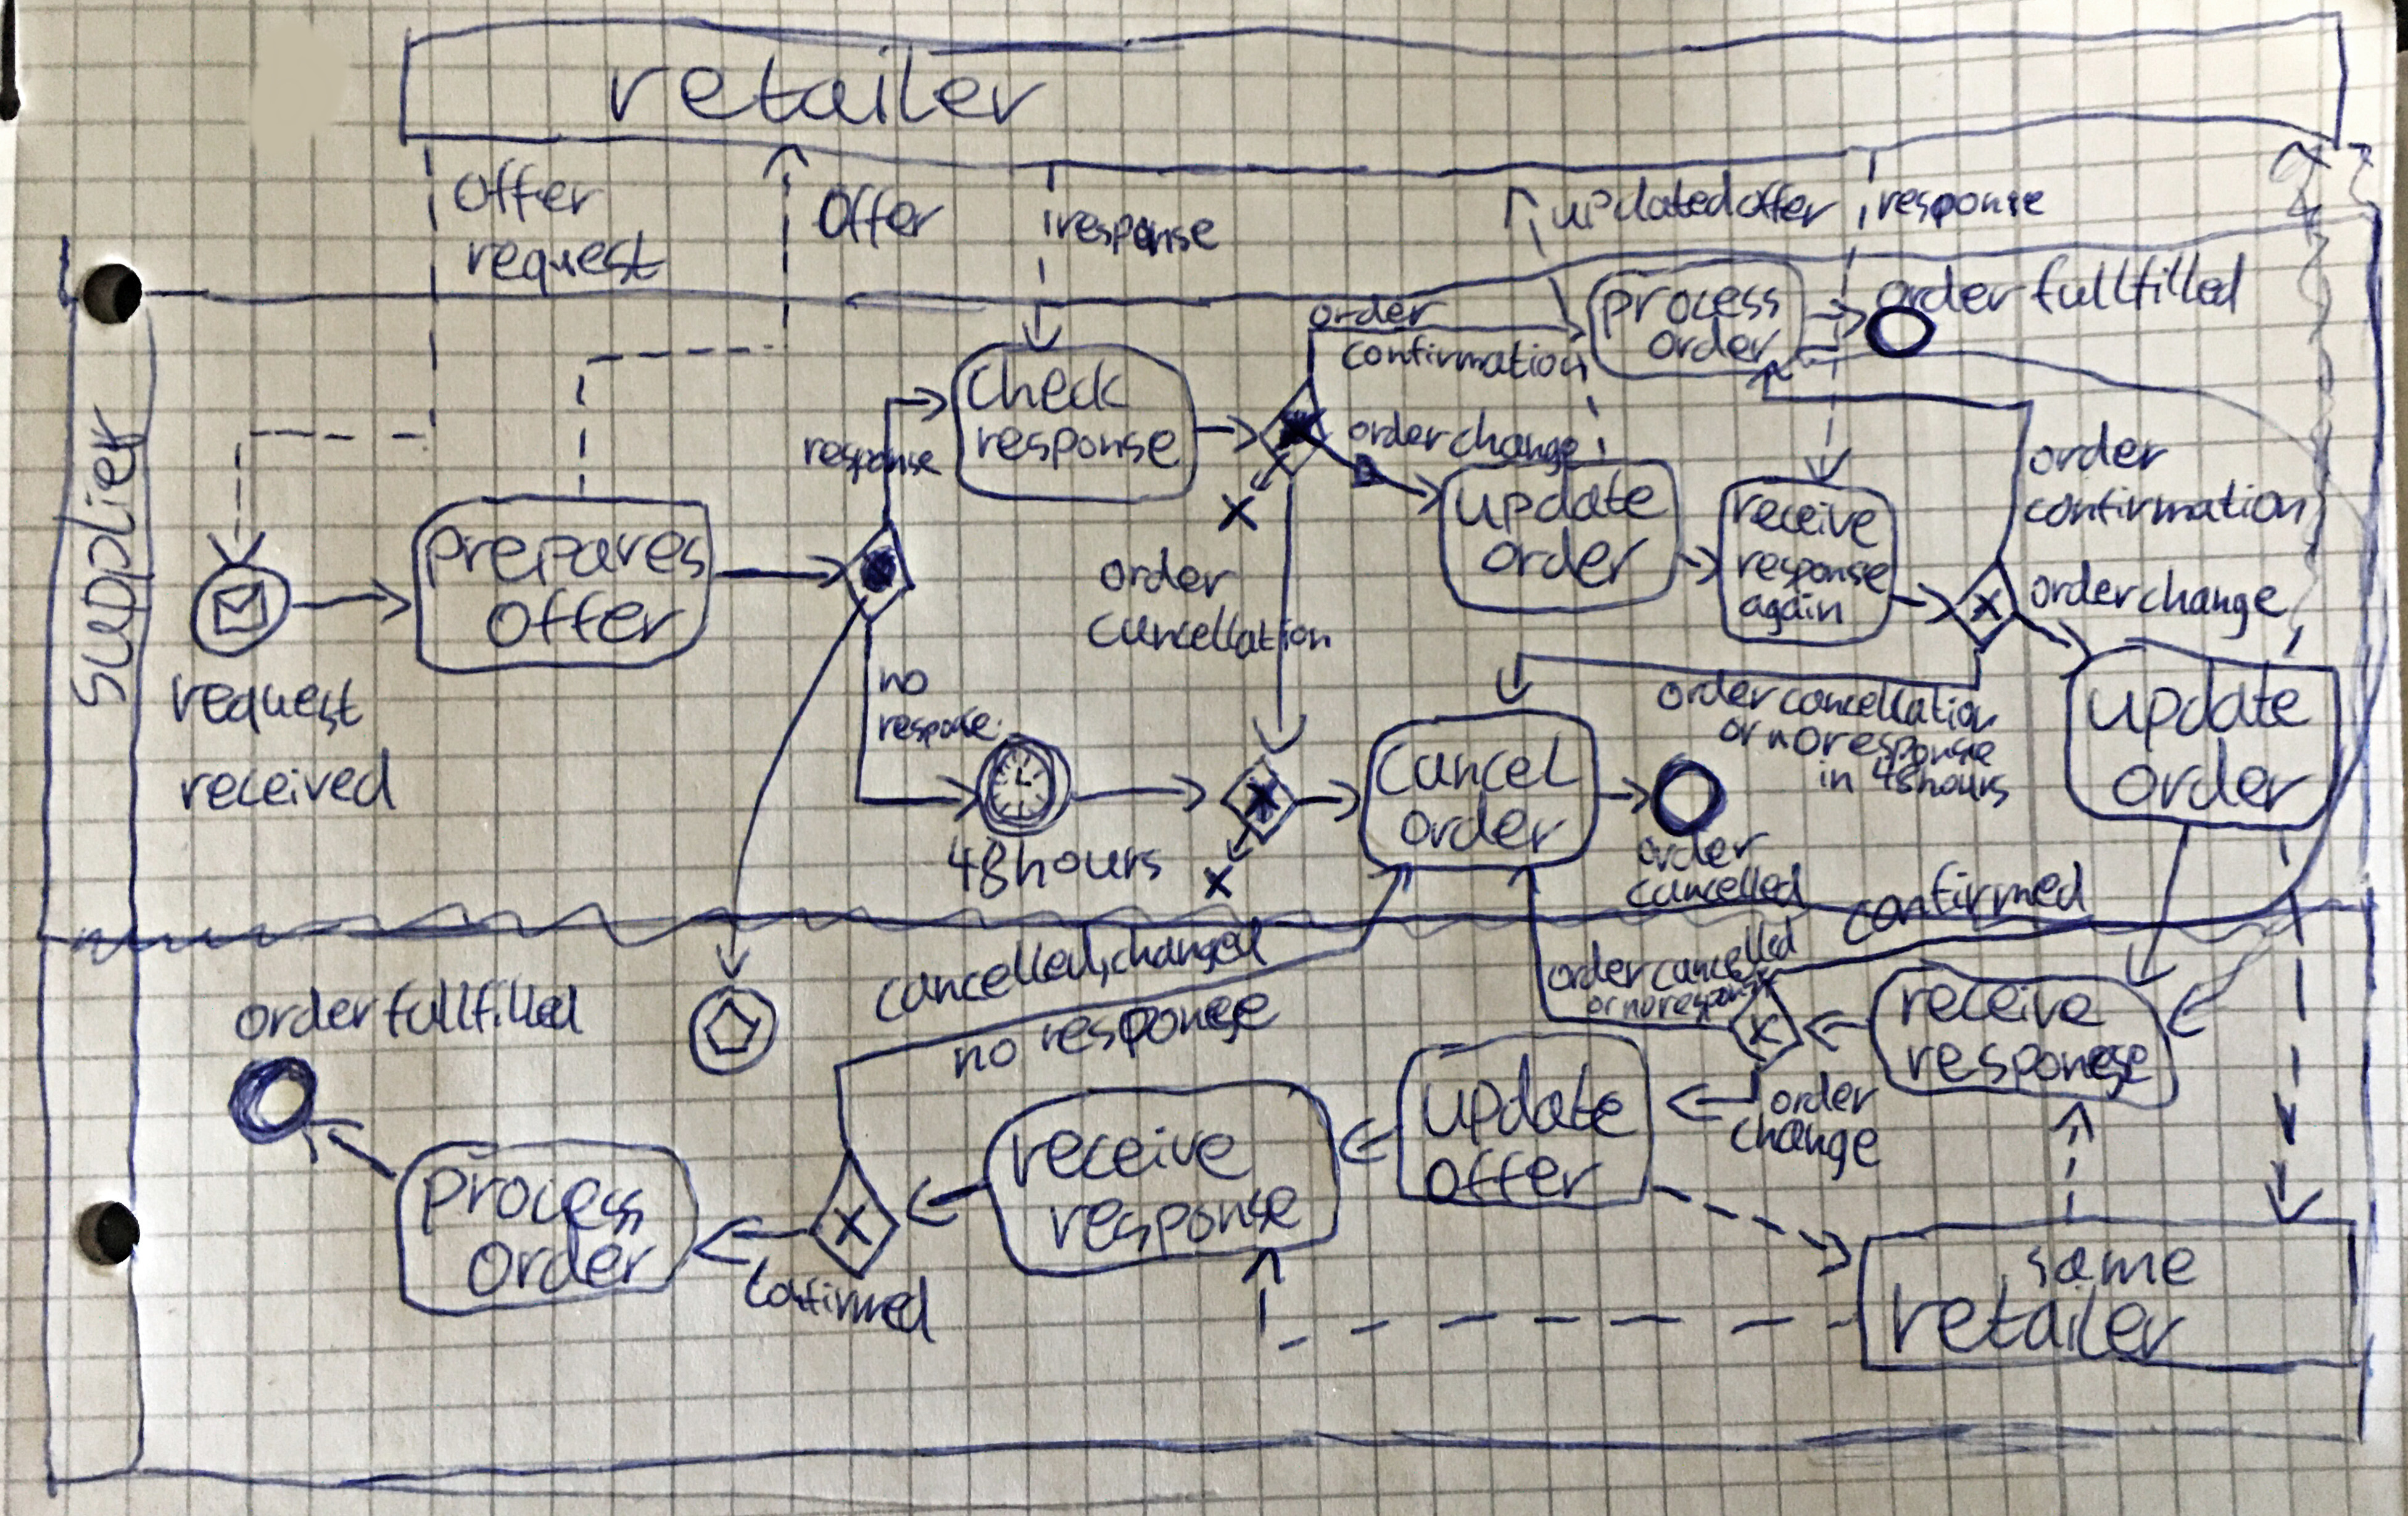48: (938, 824, 1016, 905), (1875, 756, 1916, 793)
Check: (960, 349, 1126, 416)
Confirmed: (733, 1256, 946, 1343)
Offer: (810, 176, 953, 250)
Order: (1477, 531, 1641, 589), (1100, 550, 1238, 603), (1648, 318, 1778, 370), (1310, 292, 1444, 334)
Prepares: (426, 520, 707, 585)
again: (1739, 589, 1851, 643)
cancel: (1376, 741, 1582, 789)
cancellation: (1771, 660, 2015, 734), (1090, 611, 1329, 653)
cancelled: (882, 917, 1100, 1020), (1650, 917, 1804, 992), (1617, 863, 1809, 912)
change: (2141, 566, 2293, 641), (1725, 1111, 1902, 1175), (1448, 410, 1577, 470)
changed: (1121, 906, 1273, 975)
confirmation: (2020, 477, 2312, 531), (1338, 334, 1601, 389)
confirmed: (1840, 854, 2083, 945)
fulfilled: (367, 964, 594, 1055), (2026, 250, 2254, 318)
hours: (1011, 830, 1175, 891), (1917, 765, 2017, 812)
in: (1814, 755, 1860, 798)
no: (948, 1037, 1018, 1079), (875, 655, 929, 699)
noresponse: (1764, 725, 1999, 772), (1624, 969, 1776, 1025)
offer: (1427, 1140, 1608, 1210), (487, 592, 686, 646), (458, 154, 599, 220), (1734, 175, 1835, 234)
or: (1713, 714, 1764, 749), (1582, 996, 1617, 1018)
order: (2111, 732, 2319, 824), (230, 969, 377, 1044), (473, 1240, 662, 1296), (1404, 798, 1565, 858), (2015, 555, 2146, 620), (2024, 424, 2164, 482), (1872, 265, 2020, 316), (1634, 824, 1767, 873), (1547, 938, 1652, 999), (1767, 1076, 1881, 1123), (1657, 672, 1778, 714), (1350, 405, 1444, 458)
process: (423, 1158, 657, 1244), (1605, 276, 1793, 332)
receive: (1006, 1121, 1247, 1196), (1902, 976, 2109, 1034), (1720, 491, 1895, 545)
received: (180, 753, 402, 817)
request: (458, 222, 664, 300), (164, 671, 342, 728)
response: (1041, 1177, 1303, 1256), (1905, 1039, 2169, 1100), (1039, 992, 1273, 1058), (1051, 197, 1226, 269), (1722, 536, 1907, 599), (967, 421, 1196, 472), (1867, 171, 2054, 229), (795, 426, 948, 486), (878, 702, 997, 749)
retailer: (604, 42, 1044, 136), (1886, 1282, 2178, 1359)
same: (2020, 1238, 2198, 1291)
supplier: (63, 410, 145, 713)
update: (2081, 655, 2315, 744), (1423, 1050, 1634, 1144), (1456, 463, 1669, 534)
updated: (1544, 169, 1739, 234)
